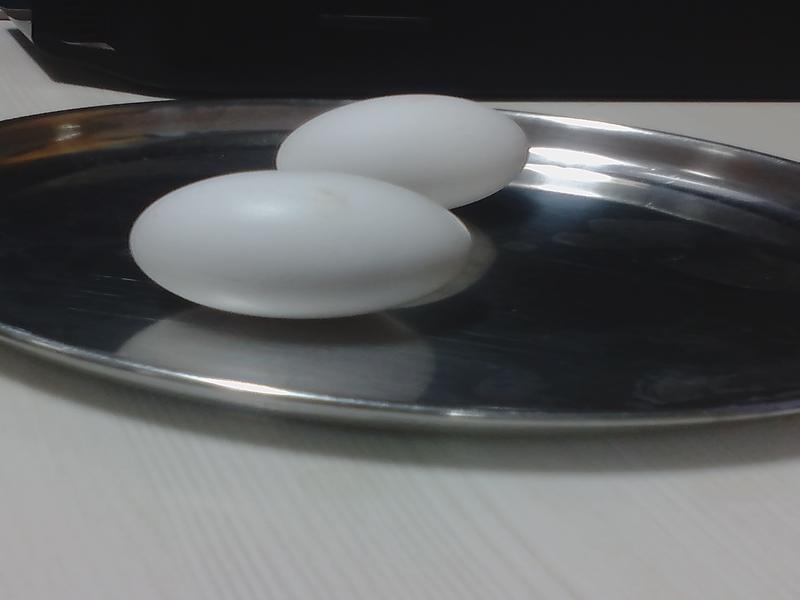egg: (128, 173, 470, 314)
